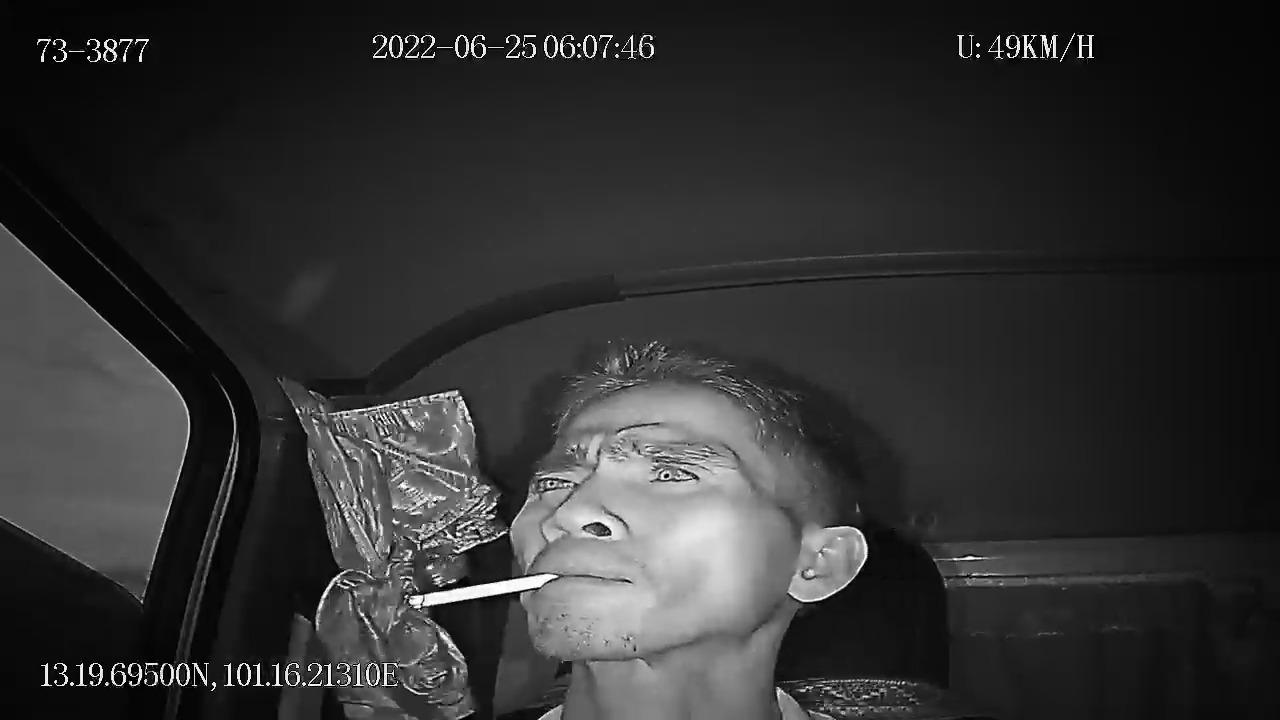Smoking: (382, 565, 585, 619)
